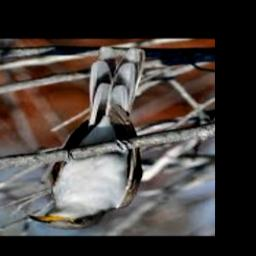Cuckoo: (29, 49, 144, 230)
